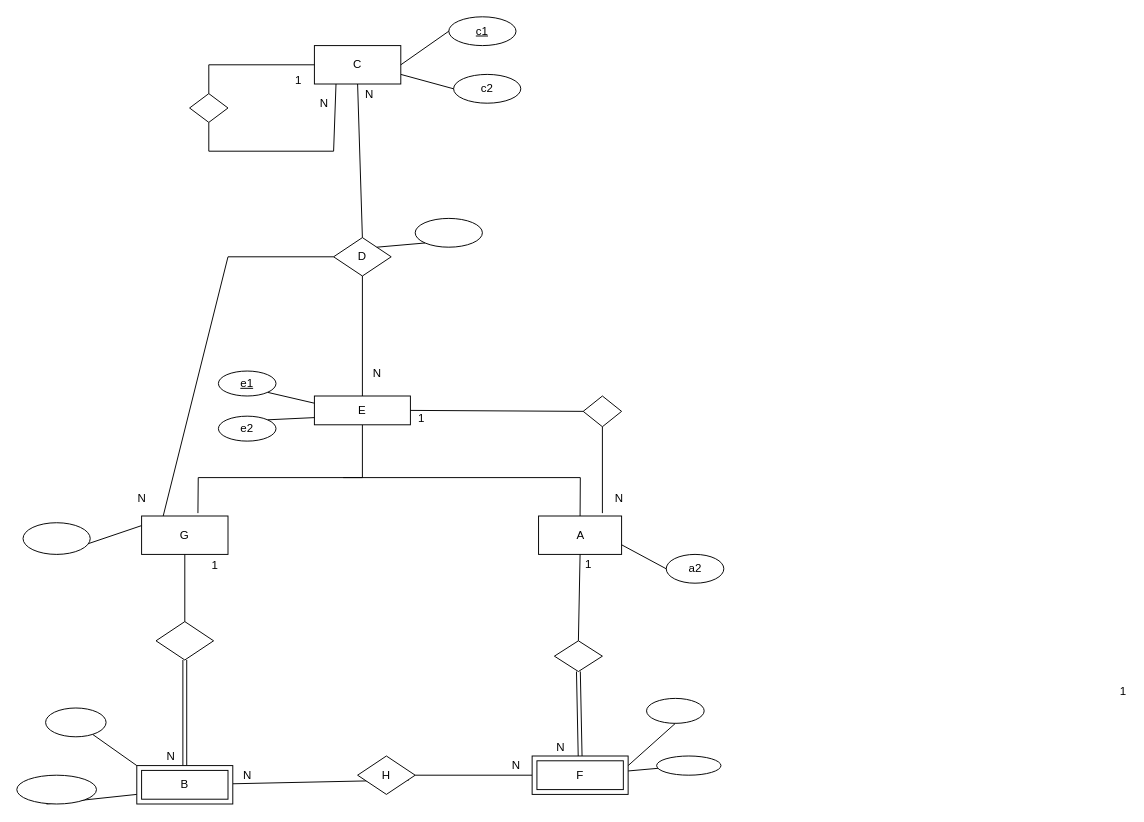
Some shapes in this 1144 by 822 pixel diagram are drawn without their labels. The shapes that lost their labels are listed below. From the top down, each one's centre as x and y in pixels, then its label:
the point at 448,232: d4
the point at 56,538: g2
the point at 75,722: b2
the point at 675,710: f2
the point at 688,765: f3
the point at 56,789: b3
